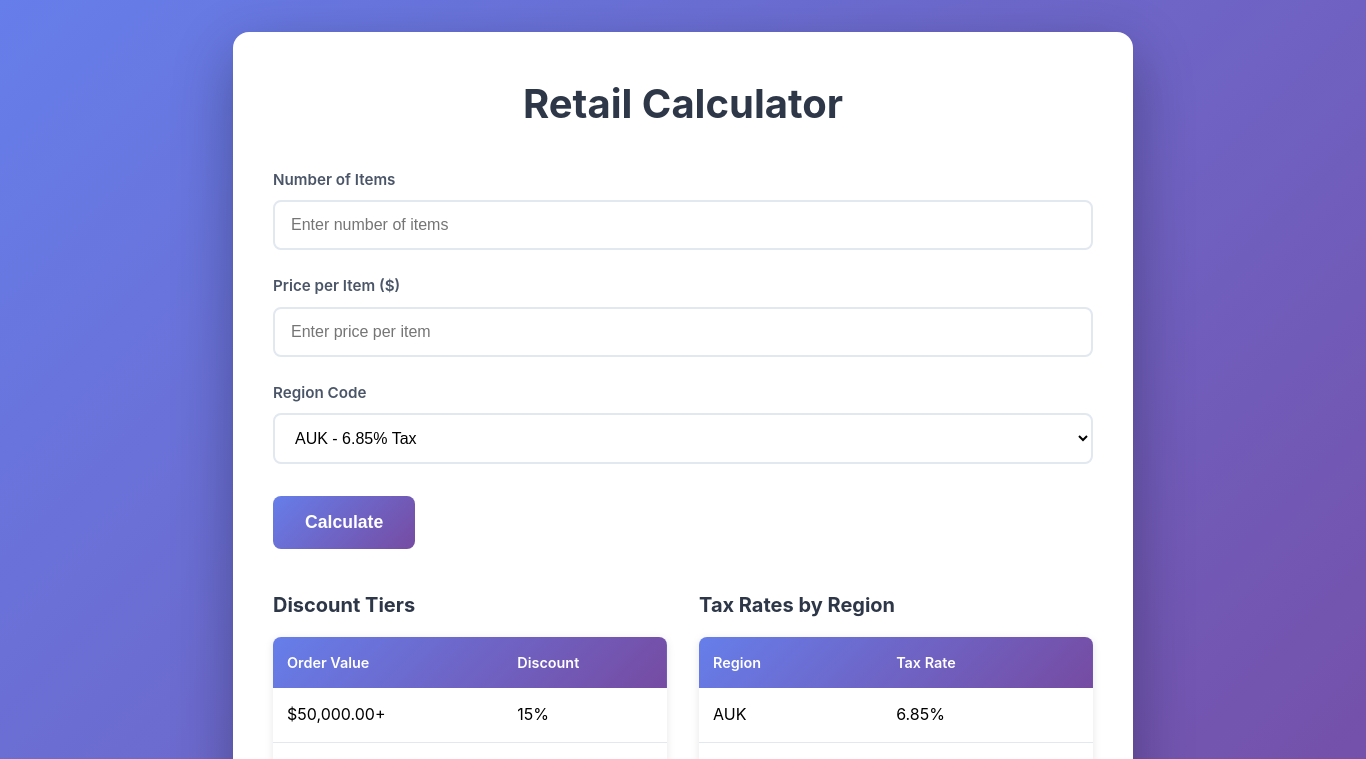
Test: App Component › Form Validation › shows validation error for empty number of items
Try to submit empty form
Click the button "Calculate" at (344, 522), box [273, 496, 415, 549]
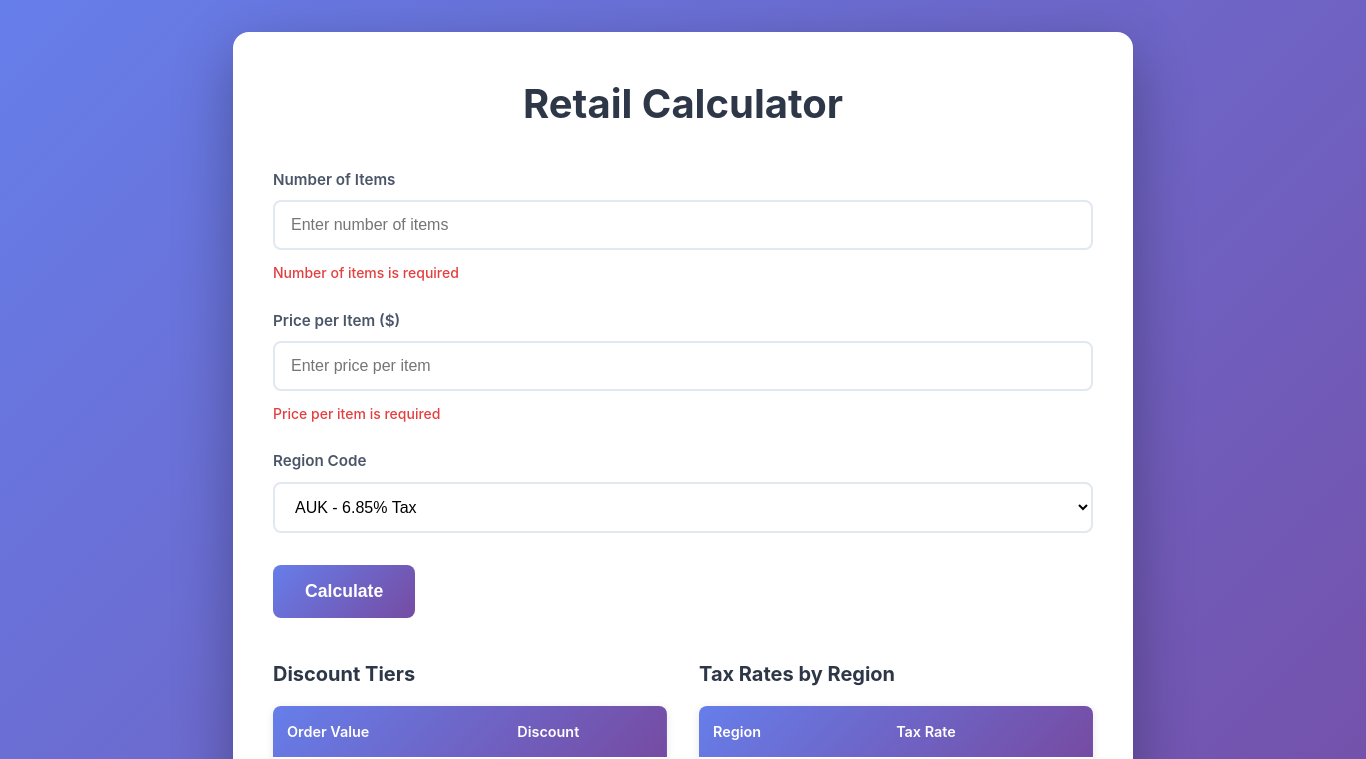
Now the text "Number of items is required" is shown, box [273, 264, 459, 281]
